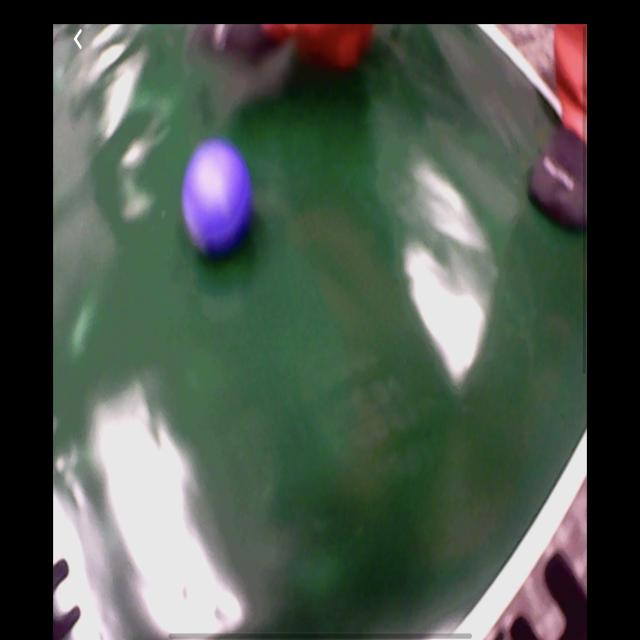ball: (182, 141, 252, 251)
